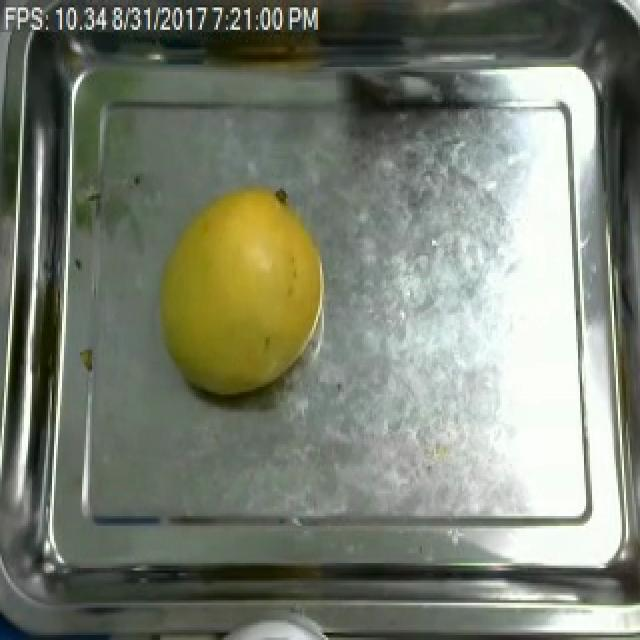fruit: (142, 174, 336, 409)
